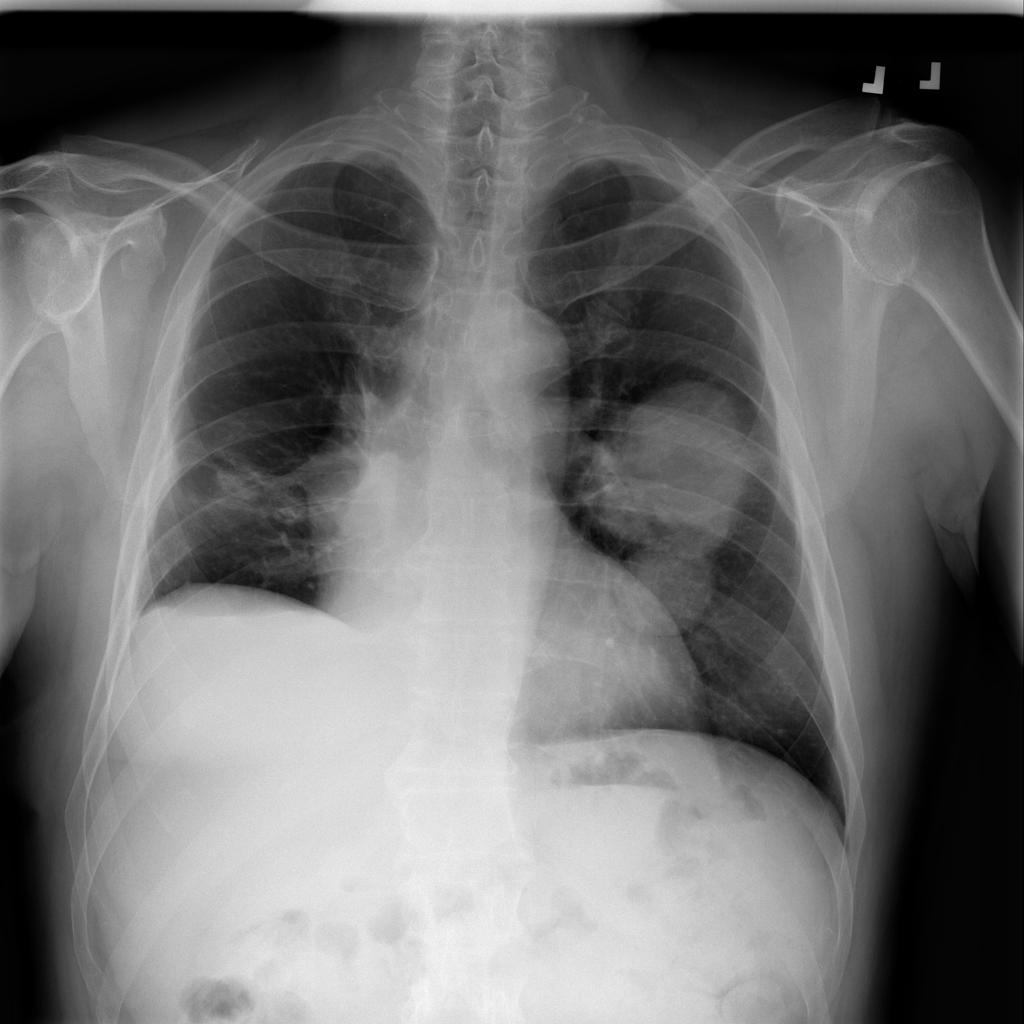nodule: (564, 368, 787, 561), (592, 528, 735, 641)
